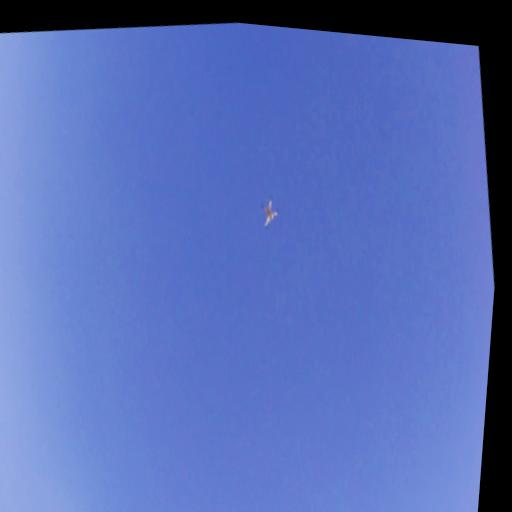drones: (257, 188, 283, 232)
